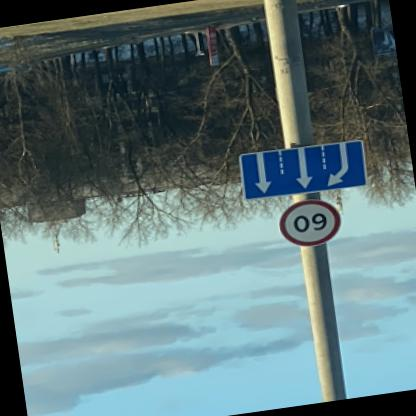speedlimit: (274, 196, 346, 252)
